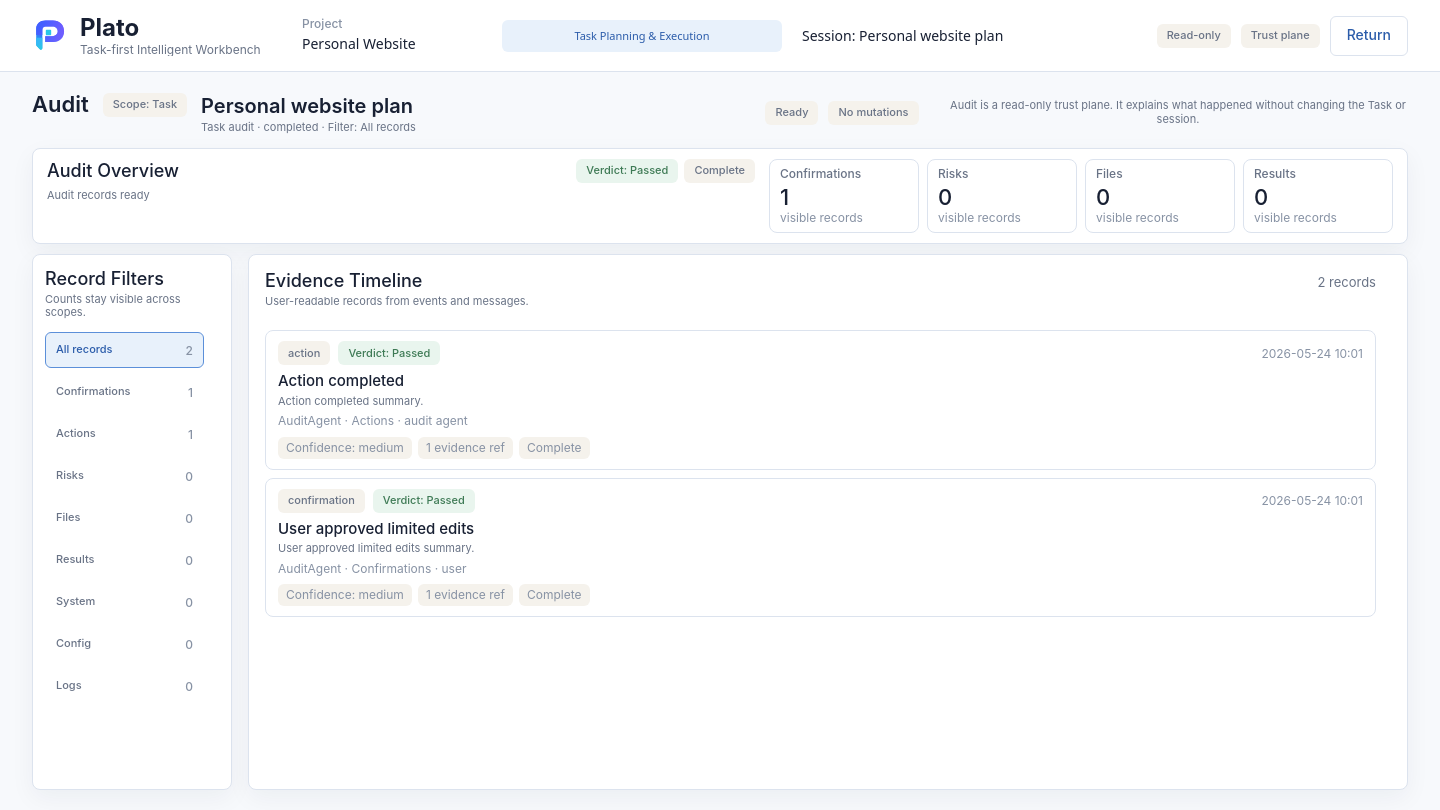
Test: App routing › re-renders the Main Page after Audit Page Return SPA navigation
This screenshot has width=1440, height=810.
Expected: the heading "Audit" is shown, [32,91,89,118]
Click the button "Return" at (1369, 36), box [1330,16,1408,56]
(page scrolled)
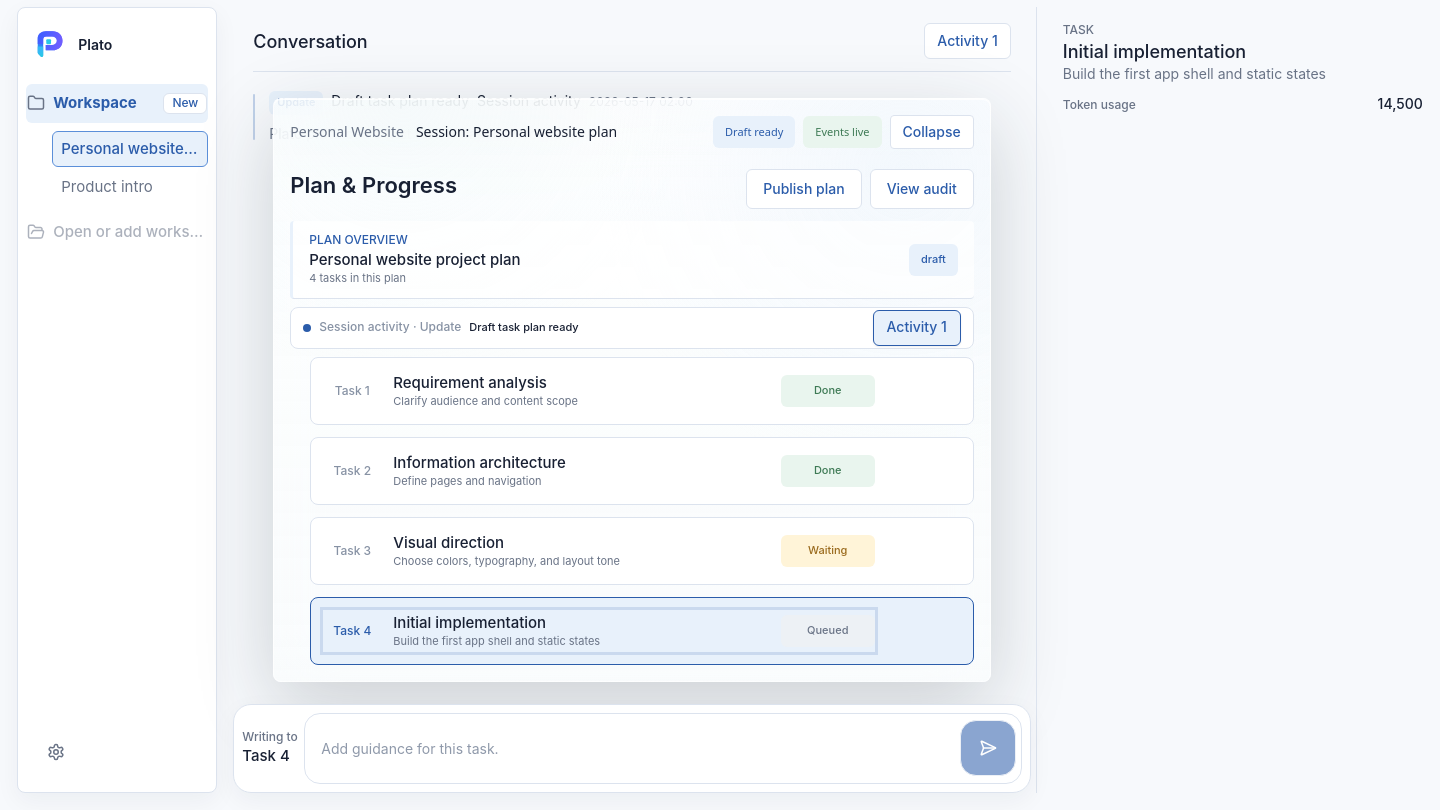
Now the heading "Plan & Progress" is shown, box [290,172,457,199]
Now the link "View audit" is shown, box [870,169,974,209]
